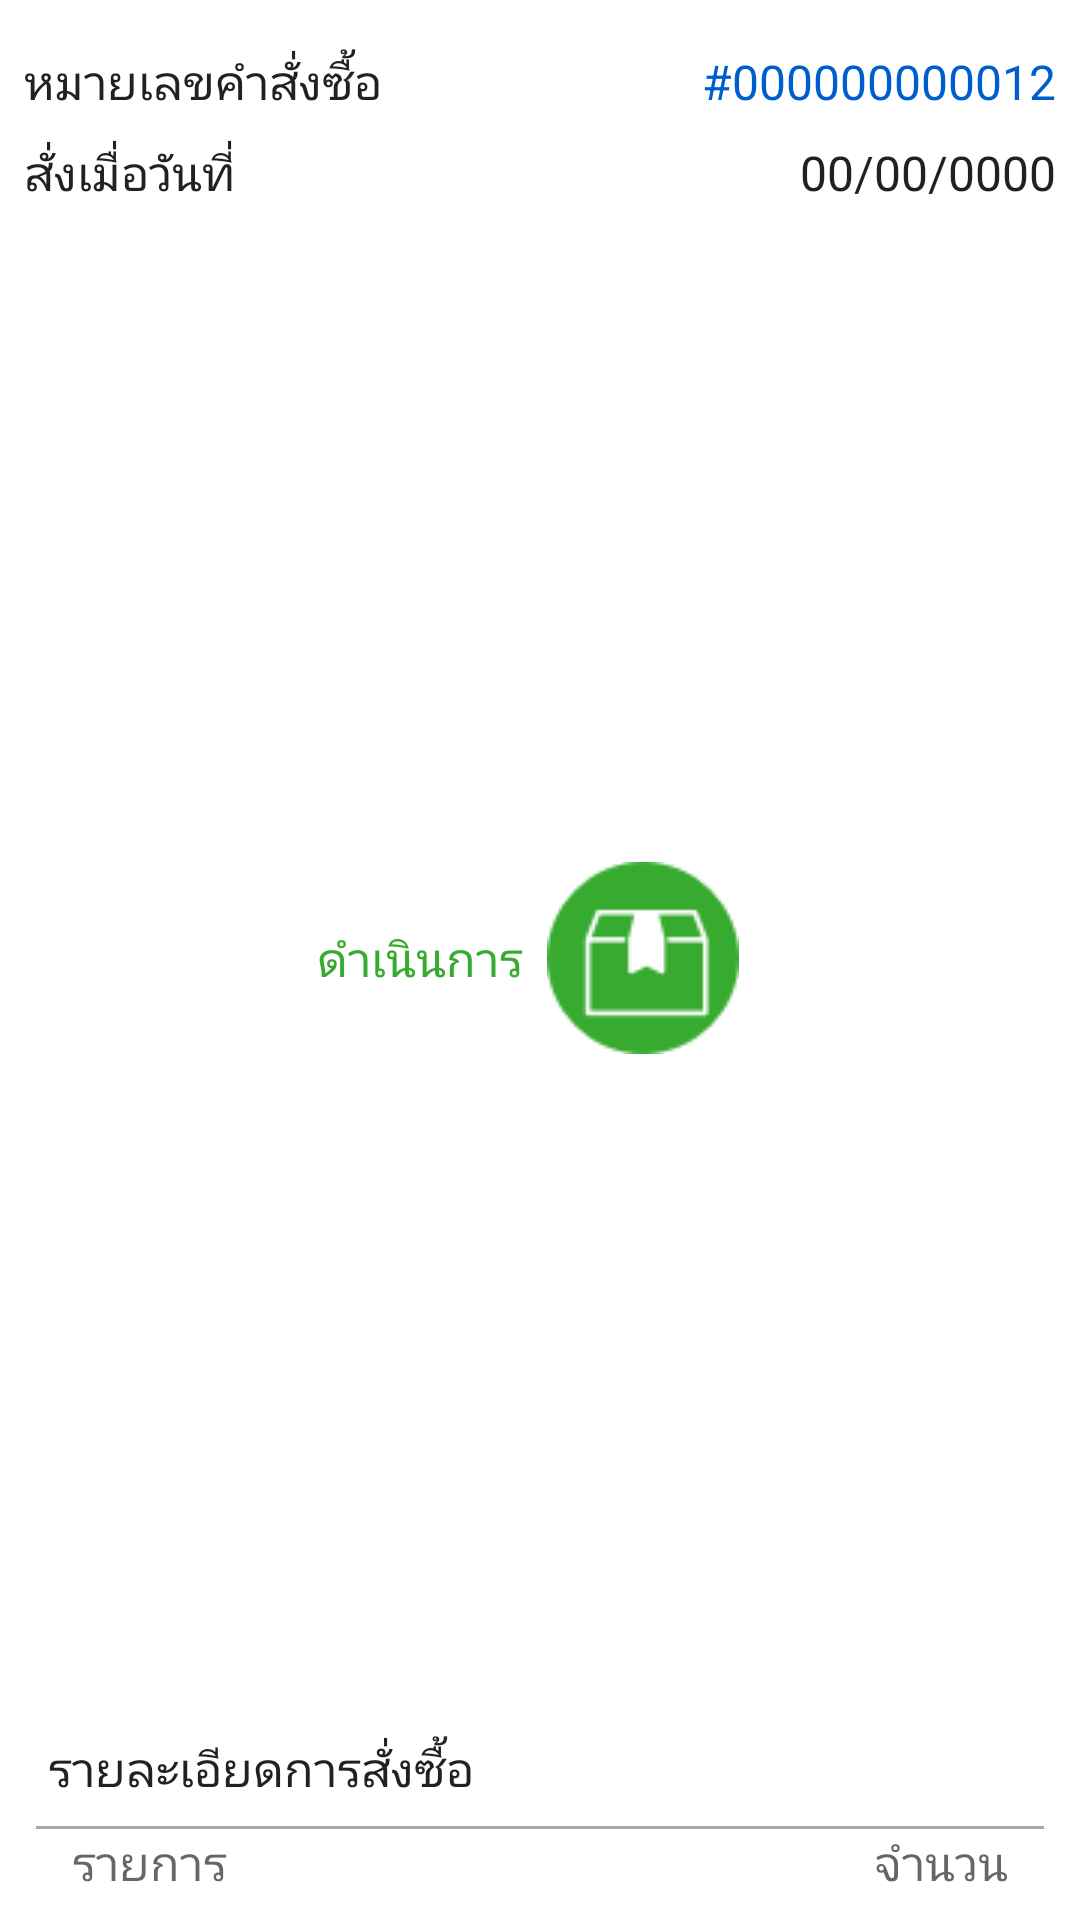

Icon bounding boxes for this 1080px×1920px phone screenshot, format (left=x1, top=y1, right=x2, bottom=y2):
packaging: (left=547, top=862, right=739, bottom=1054)
